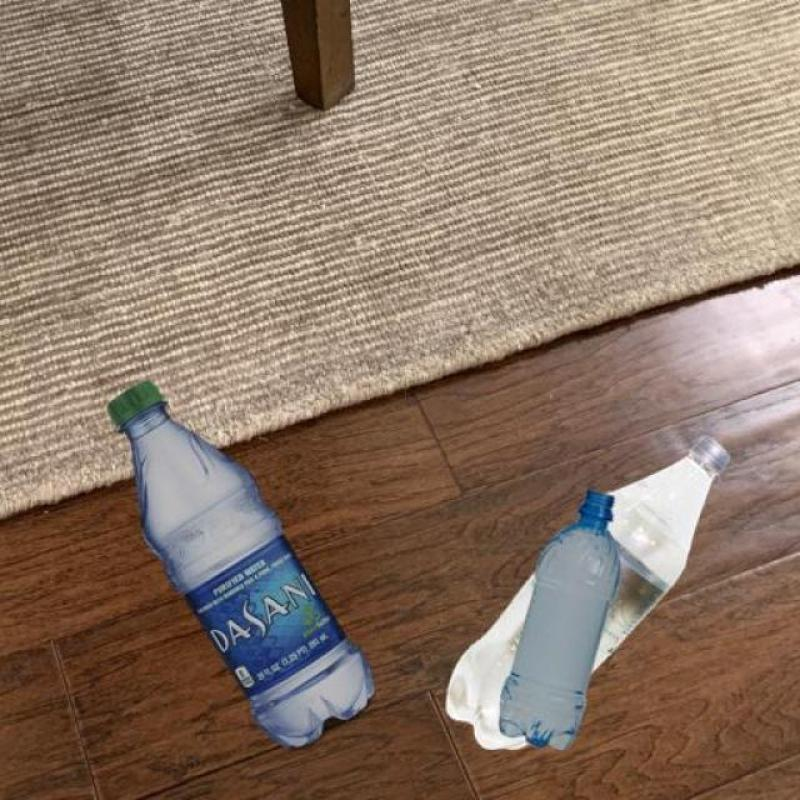botella: (105, 379, 376, 752), (446, 437, 730, 751), (499, 493, 623, 749)
